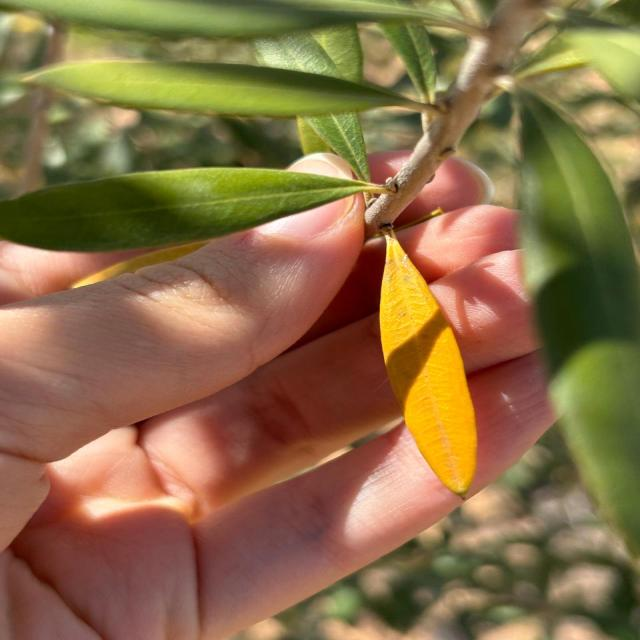Peacock Eye: (379, 230, 477, 498)
